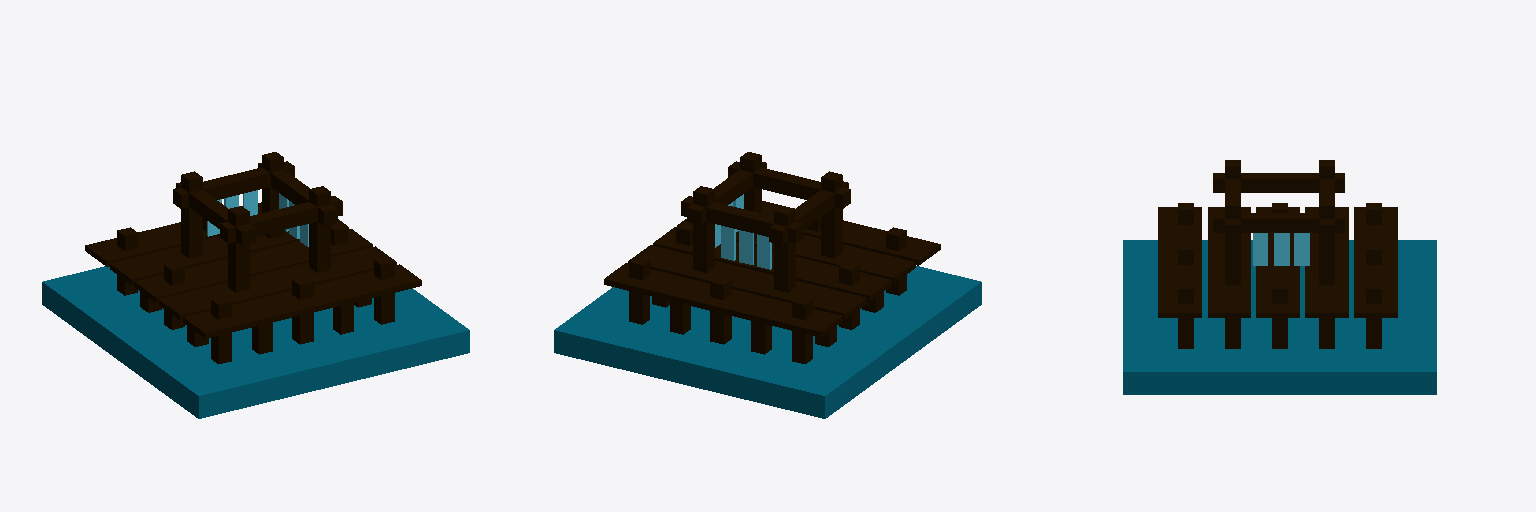
Rendered from Fishery2.obj.
3 views of the same model, side by side, from view 1: azimuth 30°, elevation 25°; view 2: azimuth 150°, elevation 25°; view 3: azimuth 270°, elevation 25° (orthographic).
Visible parts, largest first — view 1: Tilebase116, Box832, Box833, Box834, Box835, Box852, Box839, Box840, Box815, Box837, Box838, Box841 (+9 smaller); view 2: Tilebase116, Box852, Box835, Box834, Box833, Box832, Box840, Box839, Box836, Box838, Box837, Box841 (+9 smaller); view 3: Tilebase116, Box852, Box832, Box833, Box835, Box834, Box841, Box842, Box836, Box815, Box817, Box820 (+5 smaller).
Boxes of the visible parts, box(x1,y1,x2,y2) form: Tilebase116: box(42, 266, 469, 418); Box832: box(183, 264, 421, 338); Box833: box(159, 246, 396, 320); Box834: box(134, 229, 372, 302); Box835: box(110, 219, 348, 284); Box852: box(85, 202, 261, 266); Box839: box(220, 196, 342, 242); Box840: box(173, 161, 294, 208); Box815: box(309, 186, 330, 272); Box837: box(228, 206, 249, 292); Box838: box(181, 171, 202, 258); Box841: box(176, 182, 255, 245); Tilebase116: box(554, 266, 981, 418); Box852: box(604, 263, 842, 337); Box835: box(628, 245, 866, 318); Box834: box(653, 227, 891, 300); Box833: box(677, 219, 915, 283); Box832: box(762, 201, 940, 265); Box840: box(681, 196, 803, 243); Box839: box(728, 161, 850, 208); Box836: box(693, 186, 714, 272); Box838: box(774, 206, 795, 292); Box837: box(821, 171, 842, 258); Box841: box(769, 181, 848, 244); Tilebase116: box(1123, 240, 1436, 394); Box852: box(1354, 207, 1397, 317); Box832: box(1158, 207, 1201, 317); Box833: box(1208, 207, 1250, 317); Box835: box(1305, 207, 1348, 317); Box834: box(1256, 207, 1299, 317); Box841: box(1213, 173, 1344, 192); Box842: box(1213, 213, 1344, 232); Box836: box(1319, 200, 1334, 284); Box815: box(1225, 200, 1240, 284); Box817: box(1272, 283, 1287, 348); Box820: box(1366, 283, 1381, 348).
Bounding box in the file's own units: 10 × 5.13 × 10.